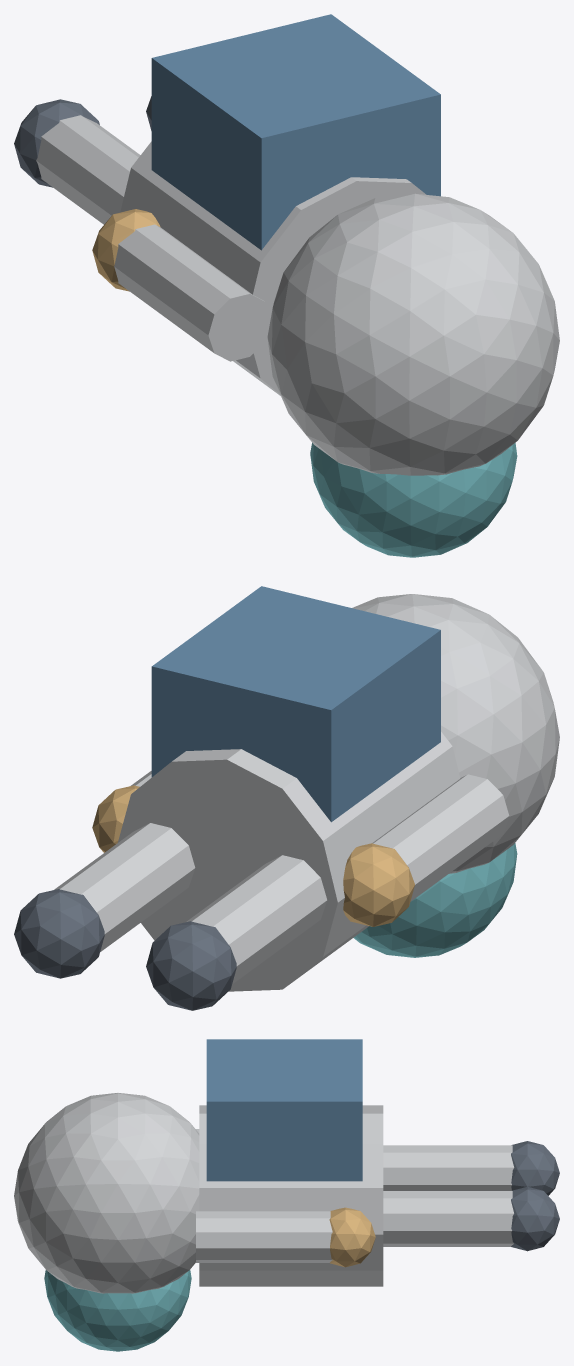
Rendered from astronaut_stylized.glb.
The picture shows the model from 3 angles, top to bottom: view 1: azimuth 30°, elevation 25°; view 2: azimuth 150°, elevation 25°; view 3: azimuth 270°, elevation 25°; orthographic projection. The views are drawn at different scales.
Parts seen in each view (by area): view 1: astronaut_stylized_0, astronaut_stylized_2, astronaut_stylized_3, astronaut_stylized_1, astronaut_stylized_6, astronaut_stylized_4, astronaut_stylized_5, astronaut_stylized_7; view 2: astronaut_stylized_2, astronaut_stylized_1, astronaut_stylized_0, astronaut_stylized_4, astronaut_stylized_8, astronaut_stylized_3, astronaut_stylized_6, astronaut_stylized_5, astronaut_stylized_9, astronaut_stylized_7, astronaut_stylized_11; view 3: astronaut_stylized_0, astronaut_stylized_2, astronaut_stylized_1, astronaut_stylized_3, astronaut_stylized_8, astronaut_stylized_10, astronaut_stylized_4, astronaut_stylized_9, astronaut_stylized_11, astronaut_stylized_5.
Part boxes in pixels (x1,y1,x2,y2): astronaut_stylized_0: (267,193,559,475); astronaut_stylized_2: (151,14,440,250); astronaut_stylized_3: (310,443,517,557); astronaut_stylized_1: (120,141,426,395); astronaut_stylized_6: (114,224,270,361); astronaut_stylized_4: (36,115,140,224); astronaut_stylized_5: (14,99,99,187); astronaut_stylized_7: (92,209,160,291); astronaut_stylized_2: (151,586,440,822); astronaut_stylized_1: (118,732,460,991); astronaut_stylized_0: (352,594,559,873); astronaut_stylized_4: (186,855,327,984); astronaut_stylized_8: (54,823,195,951); astronaut_stylized_3: (353,843,517,957); astronaut_stylized_6: (372,774,509,901); astronaut_stylized_5: (146,921,236,1010); astronaut_stylized_9: (14,889,104,978); astronaut_stylized_7: (343,843,414,926); astronaut_stylized_11: (92,785,139,852); astronaut_stylized_0: (14,1093,199,1293); astronaut_stylized_2: (206,1039,362,1181); astronaut_stylized_1: (199,1105,383,1286); astronaut_stylized_3: (44,1270,191,1351); astronaut_stylized_8: (383,1191,513,1246); astronaut_stylized_10: (196,1211,332,1262); astronaut_stylized_4: (383,1145,514,1190); astronaut_stylized_9: (511,1186,559,1251); astronaut_stylized_11: (329,1207,375,1267); astronaut_stylized_5: (511,1141,559,1195).
Size of the model in its own units: 1.18 by 1.4 by 2.52.
